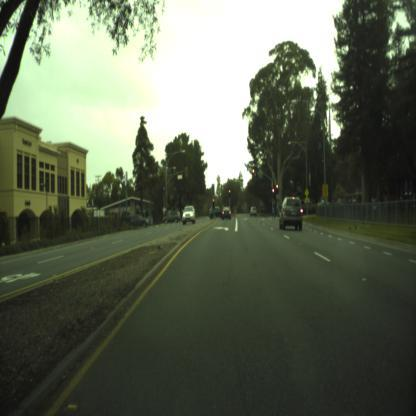Red: (275, 183, 278, 194), (252, 168, 254, 178), (272, 188, 274, 197)
RedLeft: (212, 197, 215, 208), (228, 189, 231, 197)
